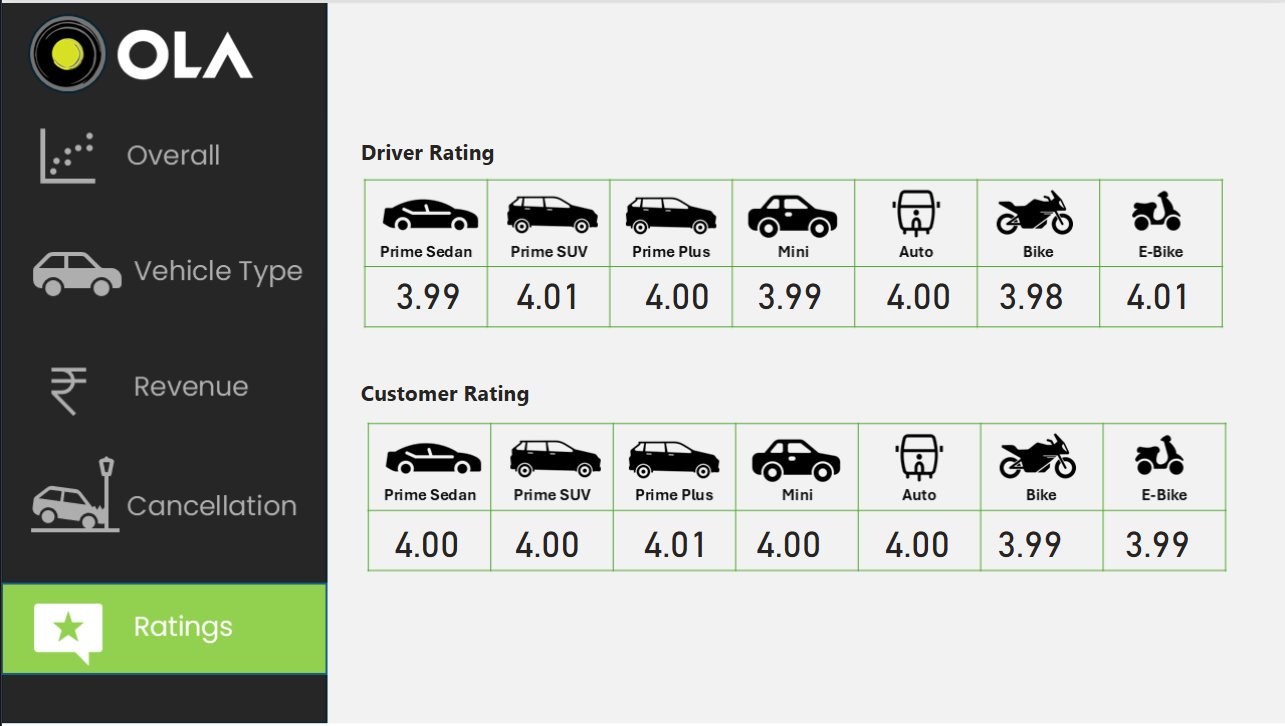

The page's visual inventory and layout, read from the dashboard file:
{"tool":"powerbi","page":{"name":"Ratings","canvas":[1280,720],"ordinal":4},"visuals":[{"type":"actionButton","box":[0,224,320,96],"z":0},{"type":"actionButton","box":[0,336,320,96],"z":1000},{"type":"actionButton","box":[0,448,320,96],"z":2000},{"type":"actionButton","box":[0,576,320,96],"z":3000},{"type":"actionButton","box":[0,112,320,96],"z":4000},{"type":"textbox","box":[352,128,208,48],"z":5000},{"type":"textbox","box":[352,368,208,64],"z":6000},{"type":"card","fields":{"Values":["Avg(Bookings.Driver_Ratings)"]},"box":[368,256,112,64],"z":7000},{"type":"card","fields":{"Values":["Avg(Bookings.Driver_Ratings)"]},"box":[480,256,128,64],"z":8000},{"type":"card","fields":{"Values":["Avg(Bookings.Driver_Ratings)"]},"box":[608,256,128,64],"z":9000},{"type":"card","fields":{"Values":["Avg(Bookings.Driver_Ratings)"]},"box":[720,256,128,64],"z":10000},{"type":"card","fields":{"Values":["Avg(Bookings.Driver_Ratings)"]},"box":[848,256,128,64],"z":11000},{"type":"card","fields":{"Values":["Avg(Bookings.Driver_Ratings)"]},"box":[960,256,128,64],"z":12000},{"type":"card","fields":{"Values":["Avg(Bookings.Driver_Ratings)"]},"box":[1088,256,128,64],"z":13000},{"type":"card","fields":{"Values":["Avg(Bookings.Customer_Rating)"]},"box":[366.8,504.2,112,64],"z":14000},{"type":"card","fields":{"Values":["Avg(Bookings.Customer_Rating)"]},"box":[478.8,504.2,128,64],"z":15000},{"type":"card","fields":{"Values":["Bookings.AVG CR"]},"box":[606.8,504.2,128,64],"z":16000},{"type":"card","fields":{"Values":["Bookings.AVG CR"]},"box":[718.8,504.2,128,64],"z":17000},{"type":"card","fields":{"Values":["Bookings.AVG CR"]},"box":[846.8,504.2,128,64],"z":18000},{"type":"card","fields":{"Values":["Bookings.AVG CR"]},"box":[958.8,504.2,128,64],"z":19000},{"type":"card","fields":{"Values":["Bookings.AVG CR"]},"box":[1086.8,504.2,128,64],"z":20000}]}

Visuals, with their boxes on the page's 1280x720 design canvas (x1, y1, x2, y2). These are canvas units, not pixel positions in the 1285x726 screenshot, which may show the page scaled, cropped or inside an application window:
actionButton: <bbox>0, 224, 320, 320</bbox>
actionButton: <bbox>0, 336, 320, 432</bbox>
actionButton: <bbox>0, 448, 320, 544</bbox>
actionButton: <bbox>0, 576, 320, 672</bbox>
actionButton: <bbox>0, 112, 320, 208</bbox>
textbox: <bbox>352, 128, 560, 176</bbox>
textbox: <bbox>352, 368, 560, 432</bbox>
card - Avg(Bookings.Driver_Ratings): <bbox>368, 256, 480, 320</bbox>
card - Avg(Bookings.Driver_Ratings): <bbox>480, 256, 608, 320</bbox>
card - Avg(Bookings.Driver_Ratings): <bbox>608, 256, 736, 320</bbox>
card - Avg(Bookings.Driver_Ratings): <bbox>720, 256, 848, 320</bbox>
card - Avg(Bookings.Driver_Ratings): <bbox>848, 256, 976, 320</bbox>
card - Avg(Bookings.Driver_Ratings): <bbox>960, 256, 1088, 320</bbox>
card - Avg(Bookings.Driver_Ratings): <bbox>1088, 256, 1216, 320</bbox>
card - Avg(Bookings.Customer_Rating): <bbox>367, 504, 479, 568</bbox>
card - Avg(Bookings.Customer_Rating): <bbox>479, 504, 607, 568</bbox>
card - Bookings.AVG CR: <bbox>607, 504, 735, 568</bbox>
card - Bookings.AVG CR: <bbox>719, 504, 847, 568</bbox>
card - Bookings.AVG CR: <bbox>847, 504, 975, 568</bbox>
card - Bookings.AVG CR: <bbox>959, 504, 1087, 568</bbox>
card - Bookings.AVG CR: <bbox>1087, 504, 1215, 568</bbox>
